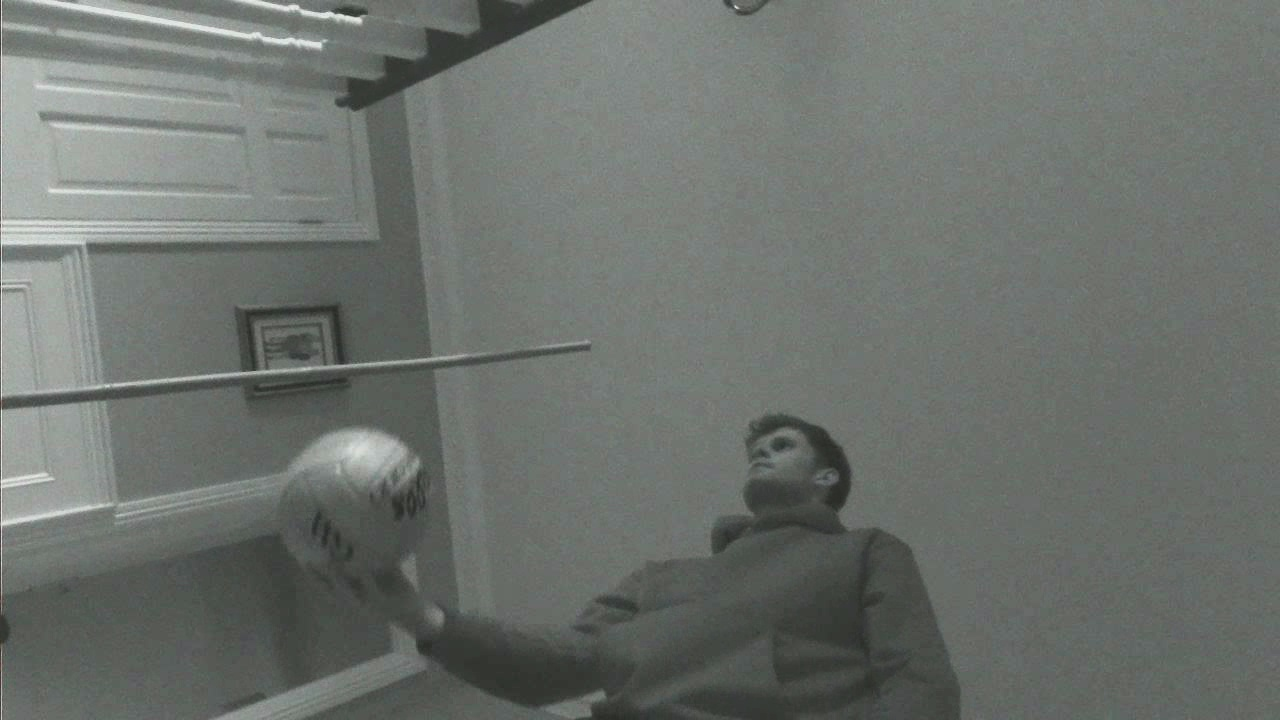Football-Spotter: (280, 427, 430, 586)
